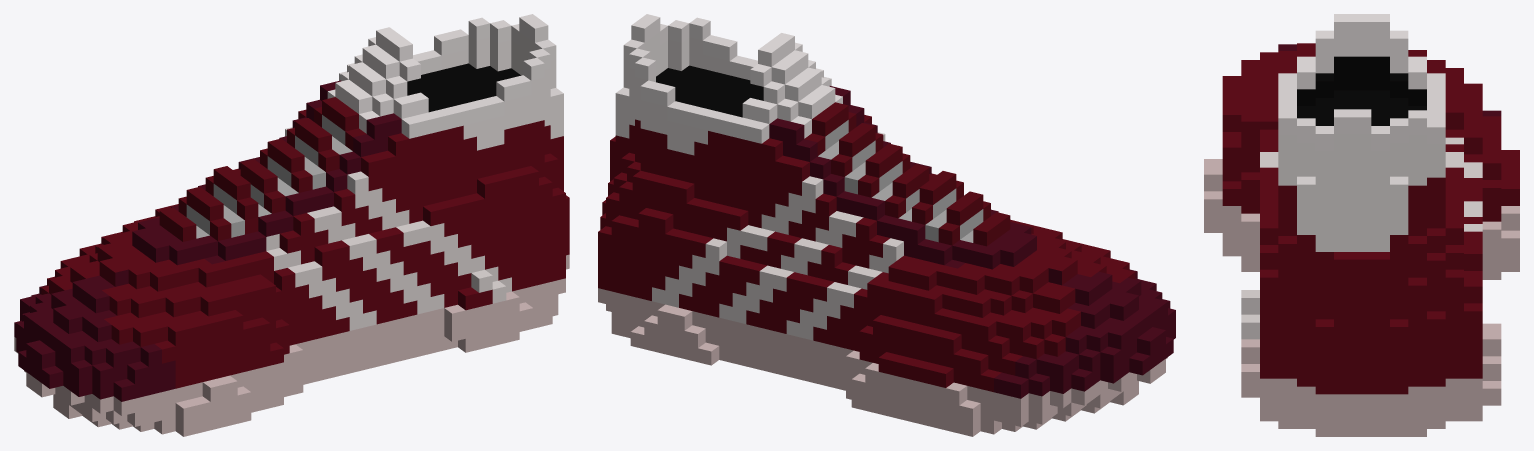
Rendered from Burgundy.fbx.
3 renders of one model, left to right at view 1: azimuth 30°, elevation 25°; view 2: azimuth 150°, elevation 25°; view 3: azimuth 270°, elevation 25°, orthographic. The views are drawn at different scales.
Parts seen in each view (by area): view 1: Untitled; view 2: Untitled; view 3: Untitled.
Part boxes in pixels (x1,y1,x2,y2): Untitled: (14, 14, 569, 436); Untitled: (598, 14, 1175, 436); Untitled: (1204, 14, 1519, 436).
Bounding box in the file's own units: 390 × 200 × 170.
